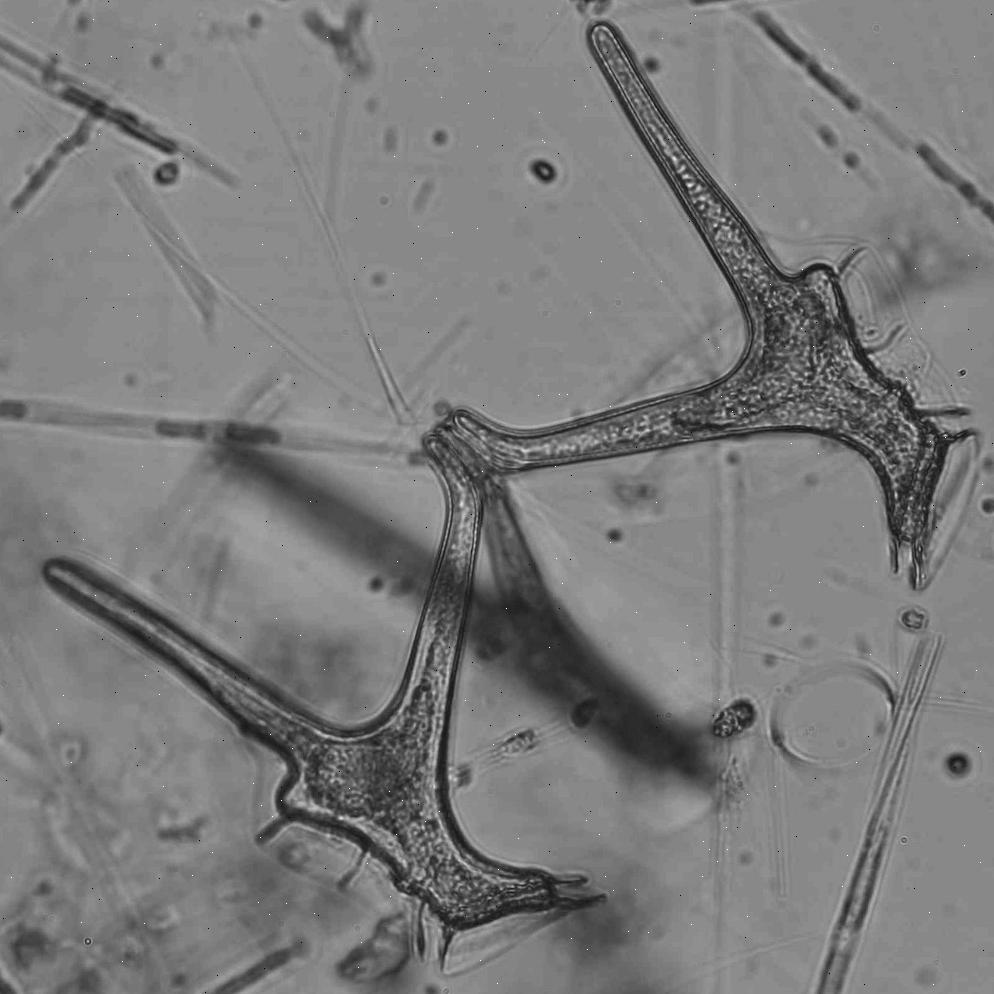dinophysis_miles: (445, 25, 985, 584), (47, 433, 552, 955)
